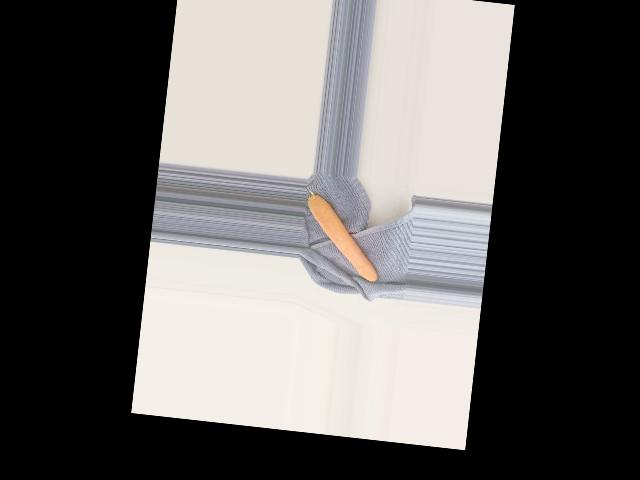carrot: (299, 194, 386, 282)
